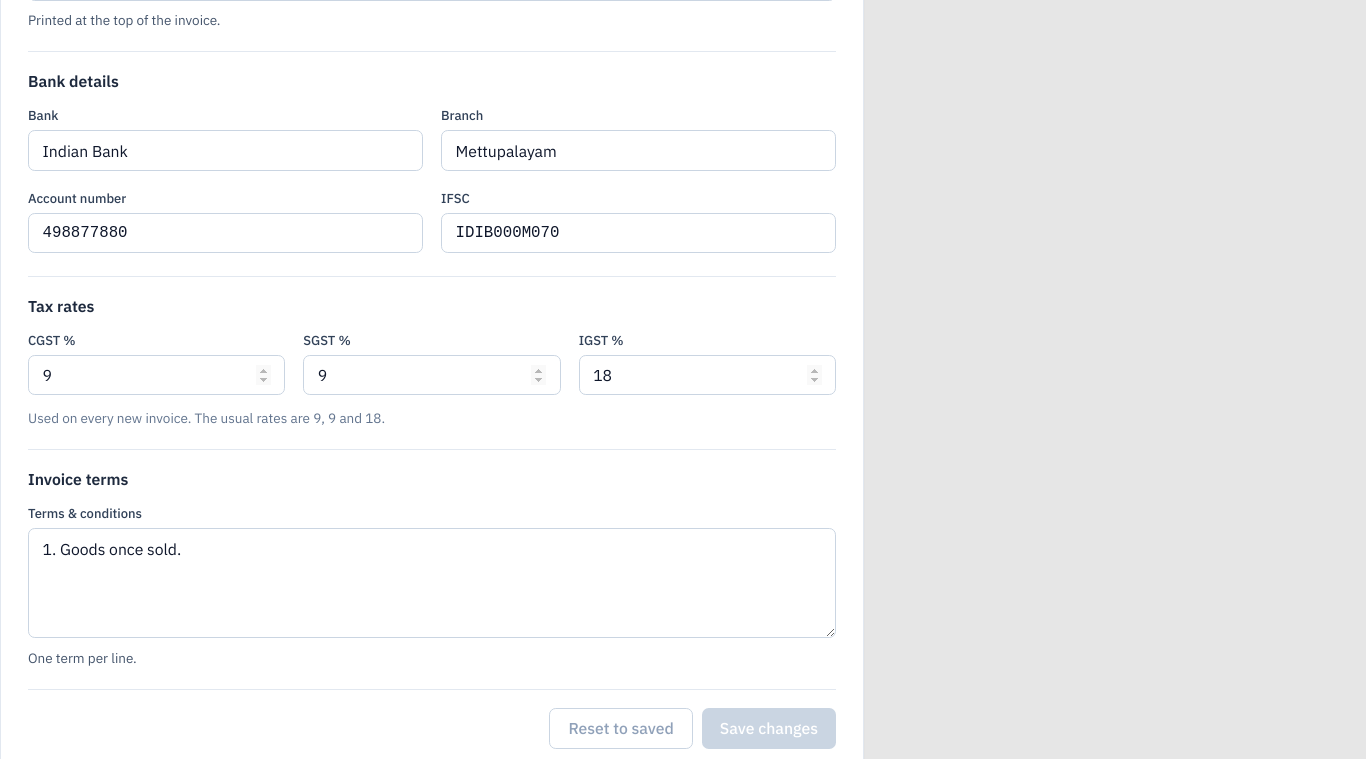
Test case: BusinessSettingsCard › saves the rates as numbers
(page scrolled)
Replace the text in the number field labelled "CGST %" with "6" at [157, 375], box [28,355,285,396]
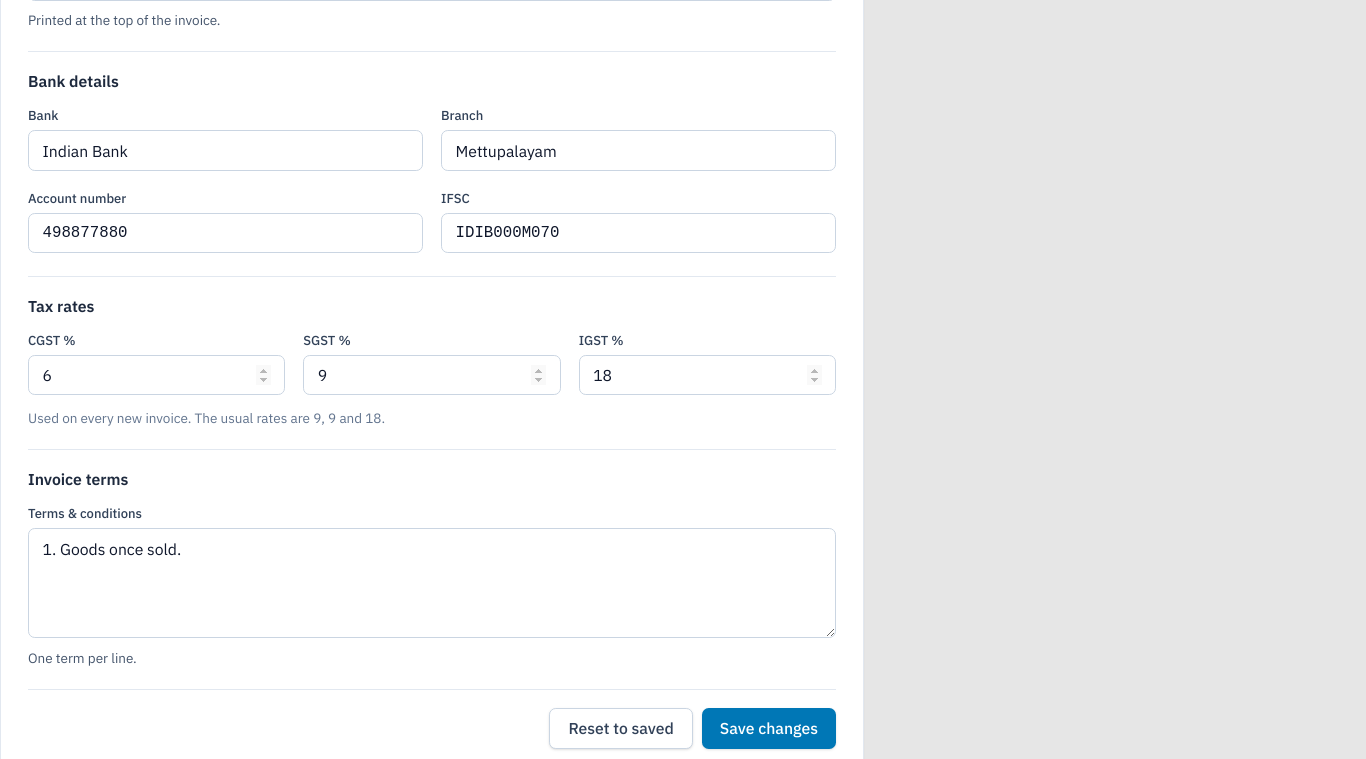
Replace the text in the number field labelled "SGST %" with "6" at [432, 375], box [303,355,561,396]
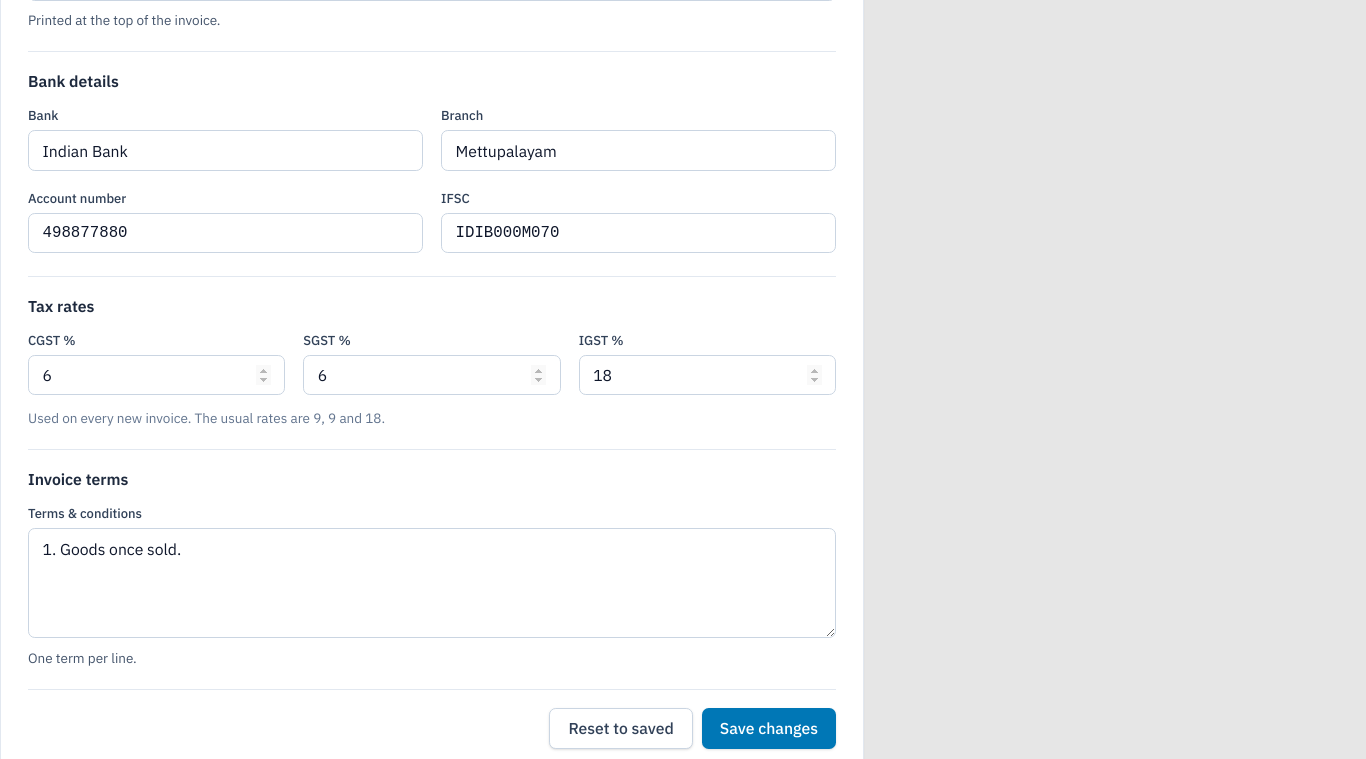
Replace the text in the number field labelled "IGST %" with "12" at [707, 375], box [579,355,836,396]
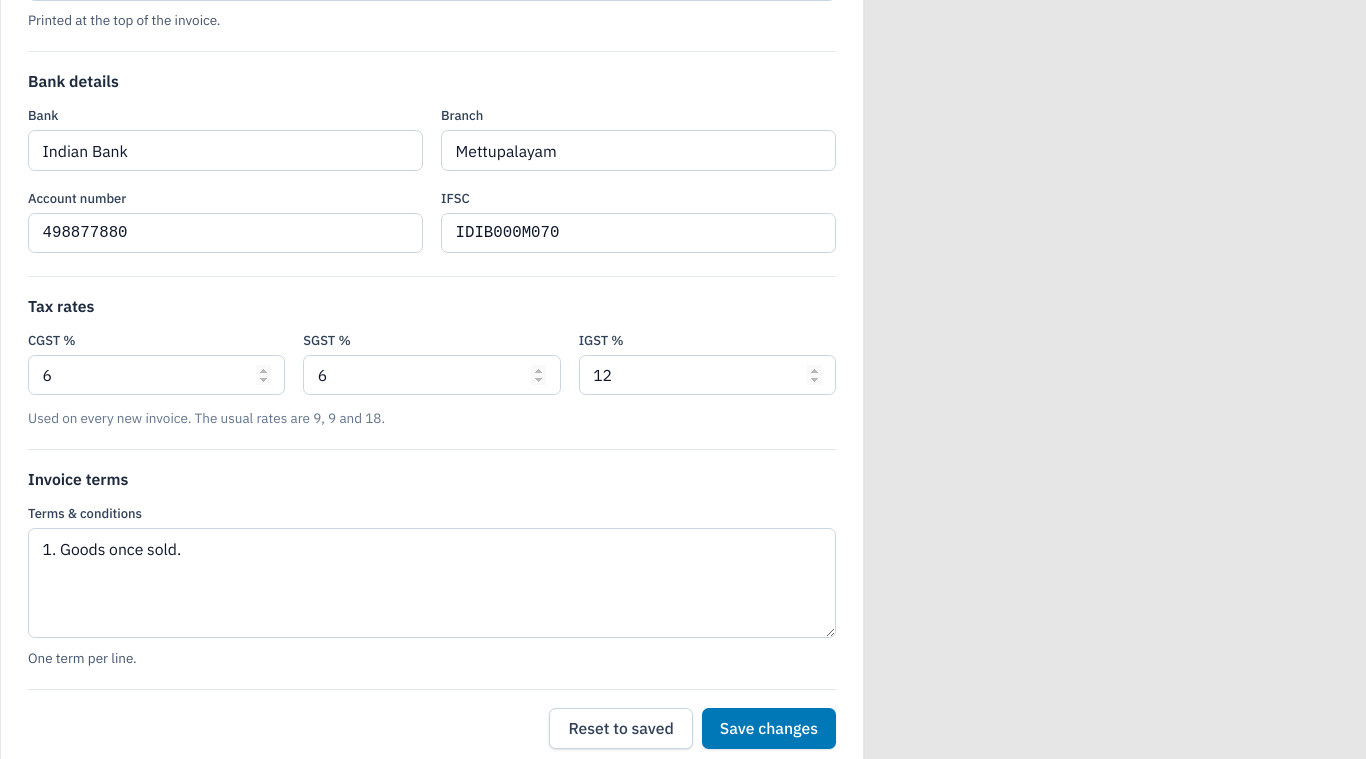
Click the button "Save changes".
click(769, 729)  # box [702,708,836,749]
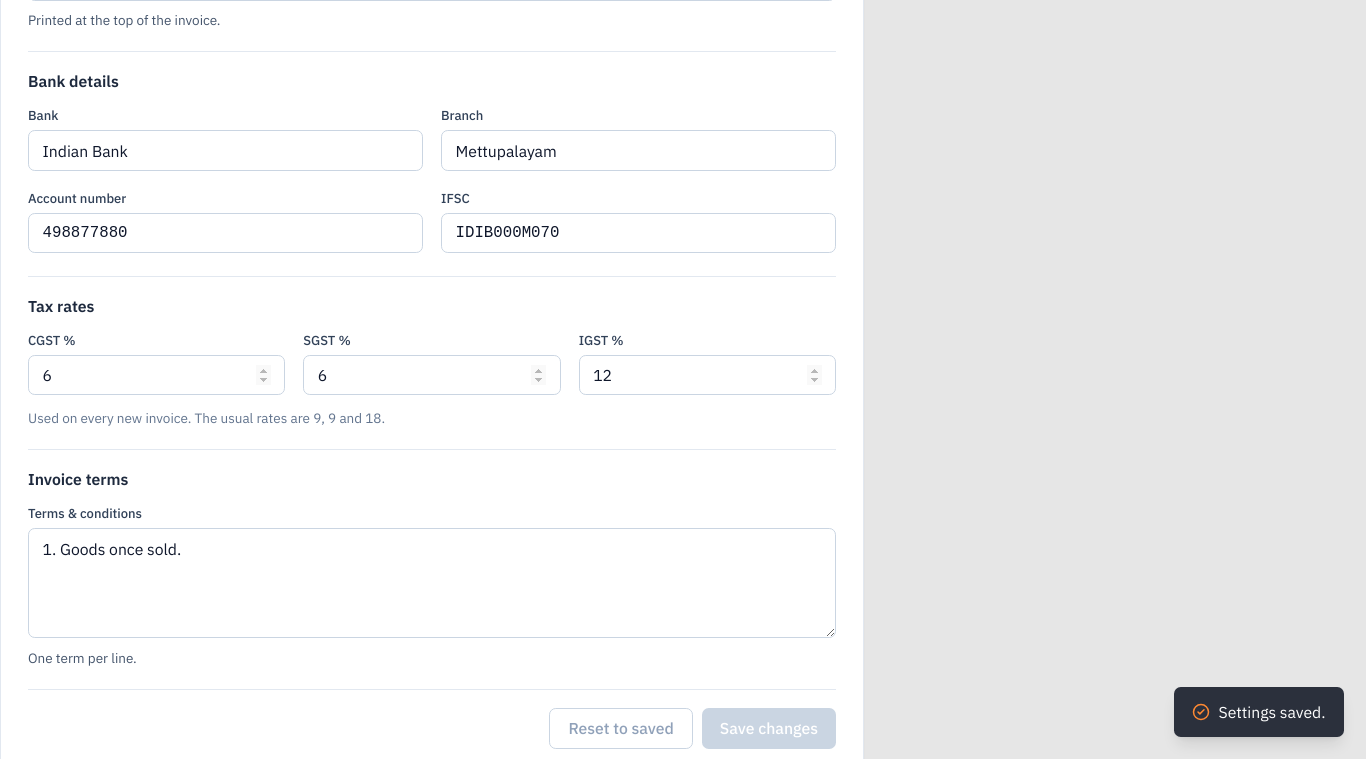
Check: the text "Settings saved." is shown, box [1218,700,1326,723]
Check: the button "Save changes" is disabled, box [702,708,836,749]
